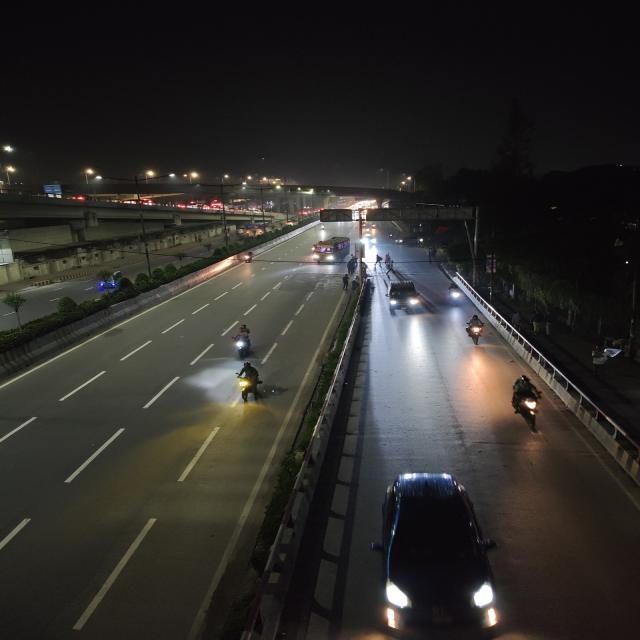bus: (308, 234, 354, 264)
car: (369, 468, 502, 640), (385, 278, 423, 316)
motorcycle: (508, 373, 548, 433), (232, 360, 270, 406), (226, 321, 262, 361), (461, 313, 488, 347), (445, 283, 466, 307), (236, 250, 256, 265), (386, 231, 397, 241)
pedestrian: (338, 272, 352, 292), (374, 253, 386, 270), (386, 260, 396, 275)
